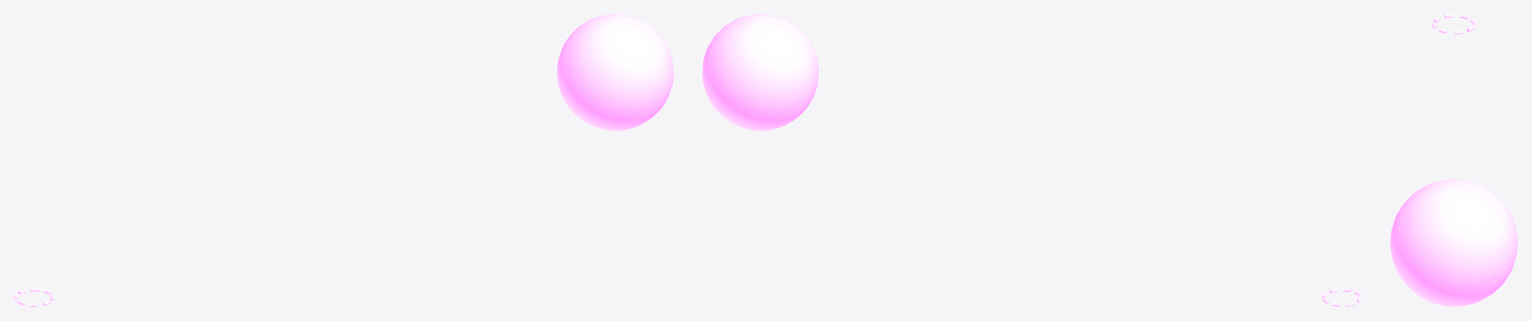
The model's file is orb-arcane.glb.
3 renders of one model, left to right at view 1: azimuth 30°, elevation 25°; view 2: azimuth 150°, elevation 25°; view 3: azimuth 270°, elevation 25°, orthographic. The views are drawn at different scales.
Visible parts, largest first — view 1: orb-arcane; view 2: orb-arcane; view 3: orb-arcane.
Boxes of the visible parts, x1,y1,x2,y2 form: orb-arcane: [14, 14, 673, 306]; orb-arcane: [702, 14, 1361, 306]; orb-arcane: [1390, 14, 1517, 306].
Size of the model in its own units: 8.43 by 1.71 by 1.32.
